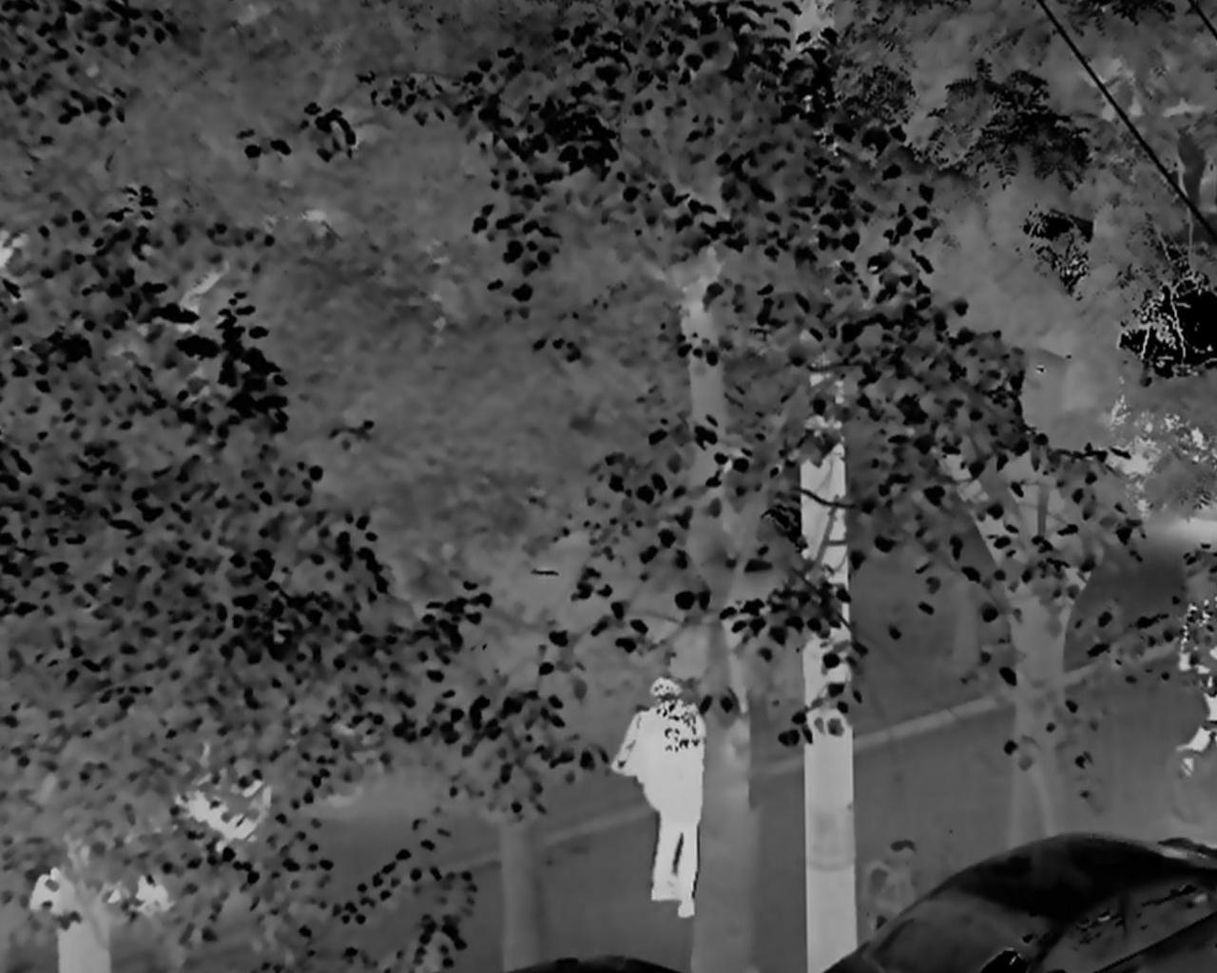person: (612, 673, 714, 925)
